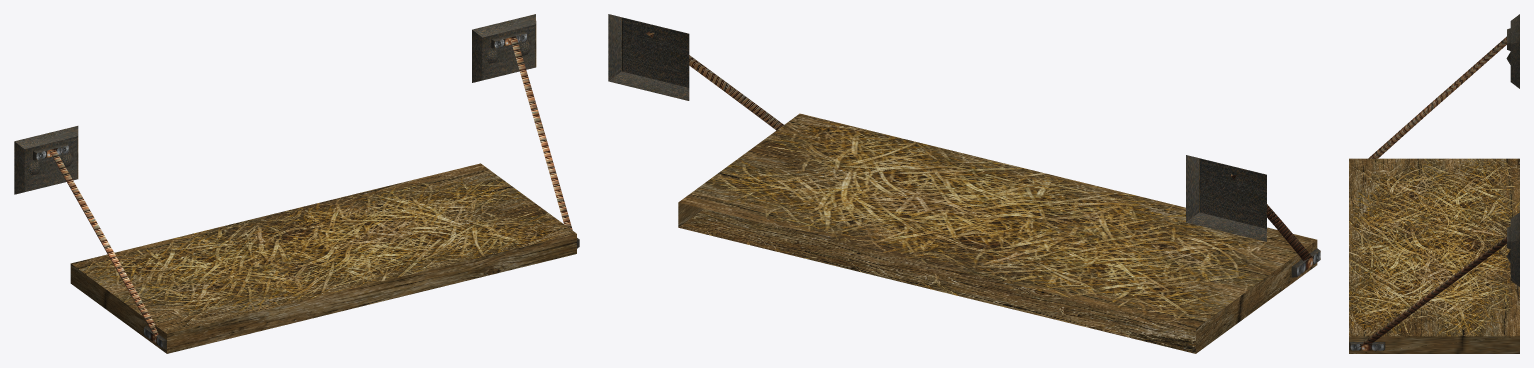
File: mm9_deco_bedwall.glb
3 views of the same model, side by side, from view 1: azimuth 30°, elevation 25°; view 2: azimuth 150°, elevation 25°; view 3: azimuth 270°, elevation 25° (orthographic). The views are drawn at different scales.
Parts seen in each view (by area): view 1: Bedwall; view 2: Bedwall; view 3: Bedwall.
Part boxes in pixels (<box>): Bedwall: <box>14,14,579,353</box>; Bedwall: <box>608,14,1320,353</box>; Bedwall: <box>1349,14,1519,353</box>.
Size of the model in its own units: 3.47 by 0.9911 by 1.11.
1 material, 1 textured.
